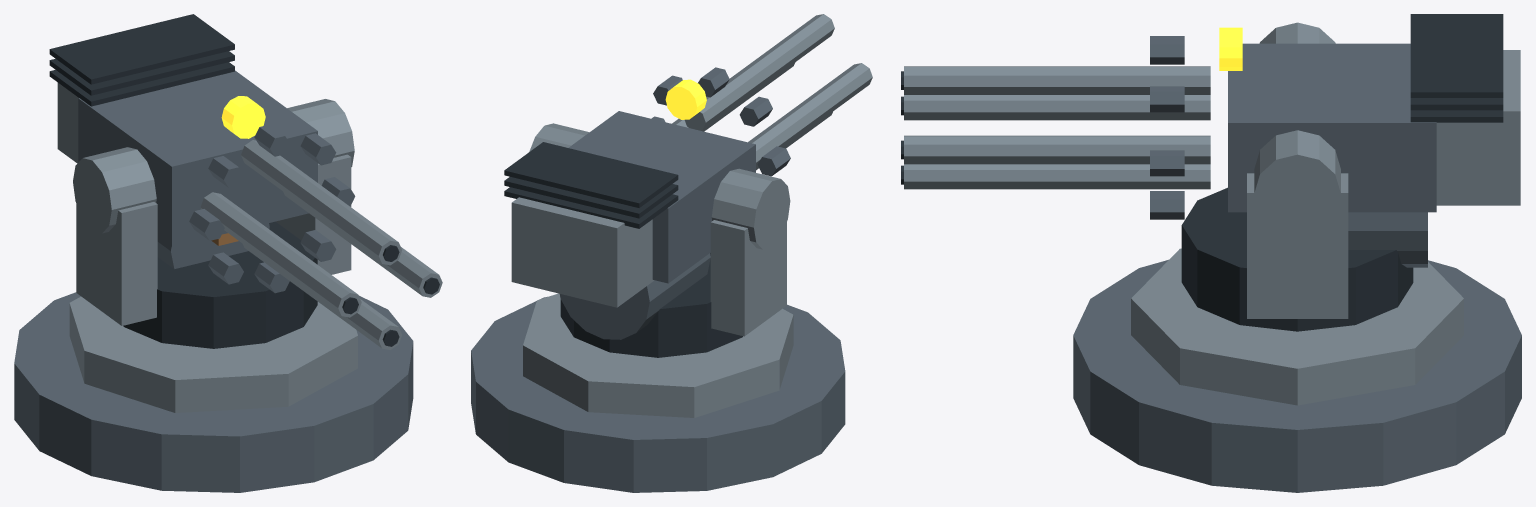
The model's file is rotor_t1_d0.glb.
3 views of the same model, side by side, from view 1: azimuth 30°, elevation 25°; view 2: azimuth 150°, elevation 25°; view 3: azimuth 270°, elevation 25° (orthographic). The views are drawn at different scales.
Visible parts, largest first — view 1: BASE_ARMOR_GEOMETRY, RECOIL_ARMOR_GEOMETRY, YAW_ARMOR_GEOMETRY, ROTOR_ARMOR_GEOMETRY, RECOIL_SIGNAL_GEOMETRY; view 2: BASE_ARMOR_GEOMETRY, RECOIL_ARMOR_GEOMETRY, YAW_ARMOR_GEOMETRY, ROTOR_ARMOR_GEOMETRY, RECOIL_SIGNAL_GEOMETRY; view 3: BASE_ARMOR_GEOMETRY, RECOIL_ARMOR_GEOMETRY, ROTOR_ARMOR_GEOMETRY, YAW_ARMOR_GEOMETRY, RECOIL_SIGNAL_GEOMETRY.
Part boxes in pixels (box(x1,y1,x2,y2)): BASE_ARMOR_GEOMETRY: box(14, 292, 413, 492); RECOIL_ARMOR_GEOMETRY: box(49, 14, 354, 268); YAW_ARMOR_GEOMETRY: box(76, 154, 351, 348); ROTOR_ARMOR_GEOMETRY: box(189, 124, 442, 349); RECOIL_SIGNAL_GEOMETRY: box(221, 96, 265, 138); BASE_ARMOR_GEOMETRY: box(471, 293, 845, 492); RECOIL_ARMOR_GEOMETRY: box(504, 111, 790, 339); YAW_ARMOR_GEOMETRY: box(560, 220, 786, 357); ROTOR_ARMOR_GEOMETRY: box(651, 14, 872, 176); RECOIL_SIGNAL_GEOMETRY: box(665, 79, 706, 119); BASE_ARMOR_GEOMETRY: box(1073, 248, 1521, 492); RECOIL_ARMOR_GEOMETRY: box(1228, 14, 1520, 267); ROTOR_ARMOR_GEOMETRY: box(901, 36, 1210, 219); YAW_ARMOR_GEOMETRY: box(1181, 173, 1413, 331); RECOIL_SIGNAL_GEOMETRY: box(1219, 27, 1242, 70).
Size of the model in its own units: 1.55 by 1.4 by 2.15.
